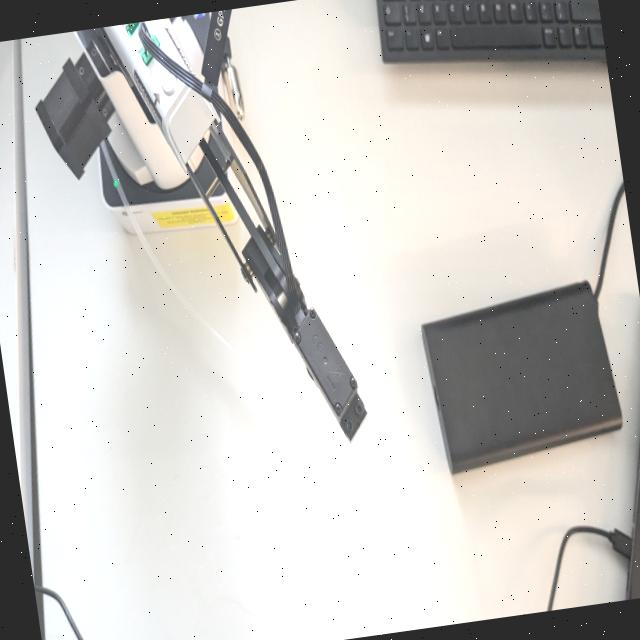Robot-end-effector-HF8z: (286, 298, 374, 450)
